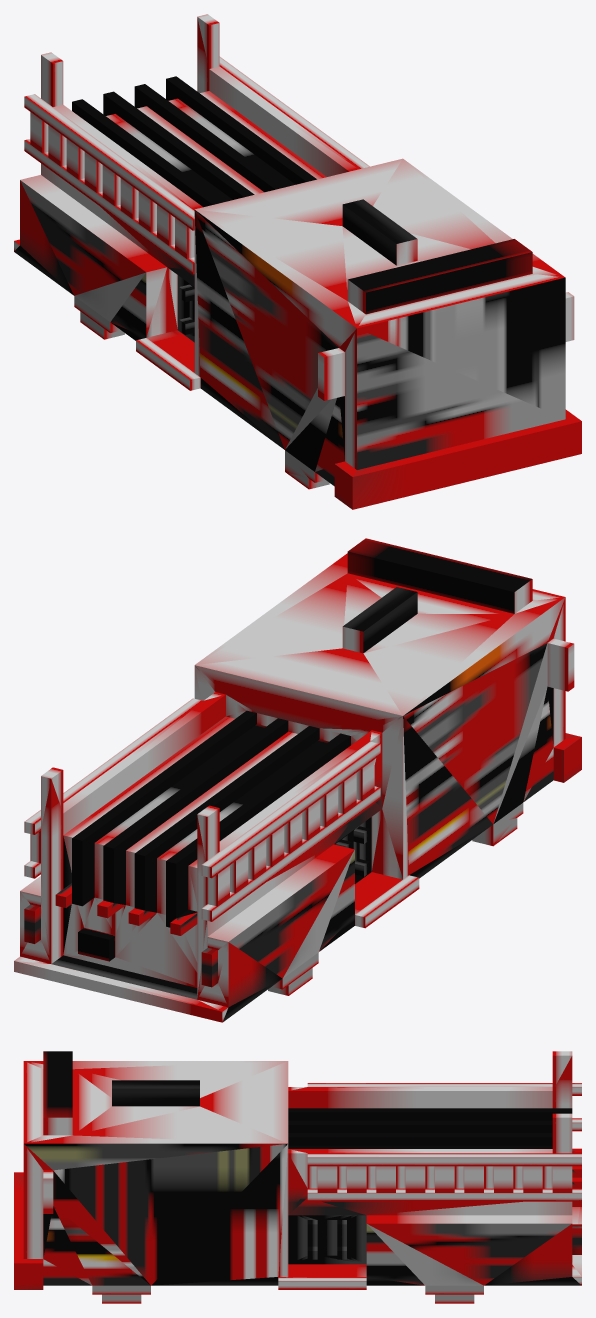
The model's file is veh_fire.fbx.
3 views of the same model, one above another, from view 1: azimuth 30°, elevation 25°; view 2: azimuth 150°, elevation 25°; view 3: azimuth 270°, elevation 25° (orthographic). The views are drawn at different scales.
Visible parts, largest first — view 1: veh_fire; view 2: veh_fire; view 3: veh_fire.
Part boxes in pixels (x1,y1,x2,y2): veh_fire: (14,14,581,509); veh_fire: (14,538,581,1022); veh_fire: (14,1051,581,1303).
Bounding box in the file's own units: 2.4 × 5.8 × 2.
